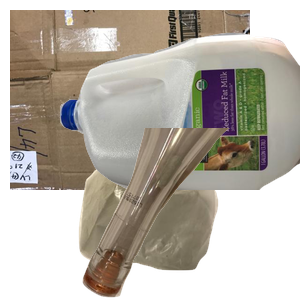cardboard: (10, 10, 250, 190)
glass: (80, 128, 300, 300)
plastic: (60, 30, 300, 210)
trash: (76, 124, 287, 300)
